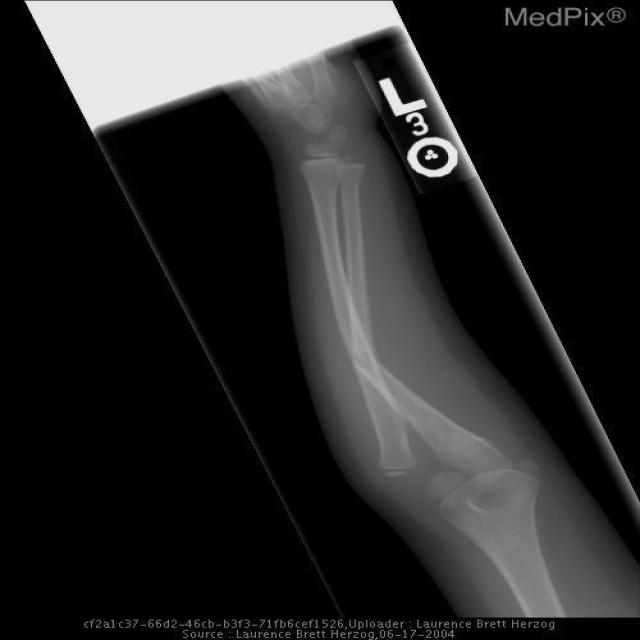fracture: (348, 351, 391, 372)
